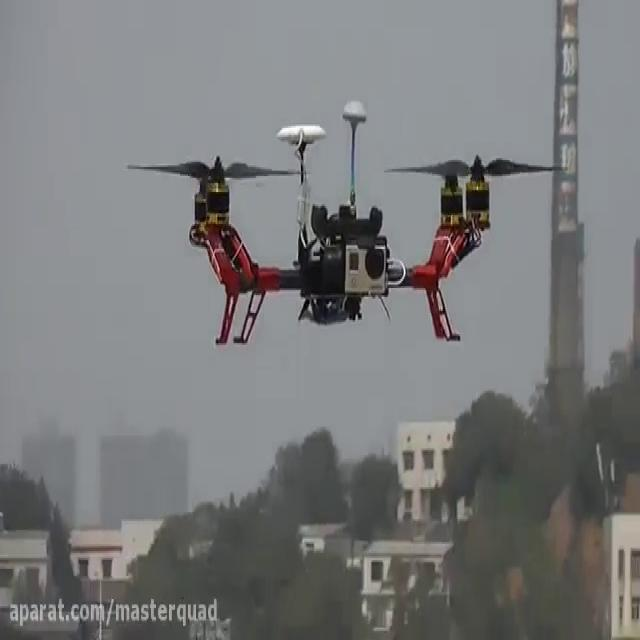drone: (125, 96, 567, 348)
